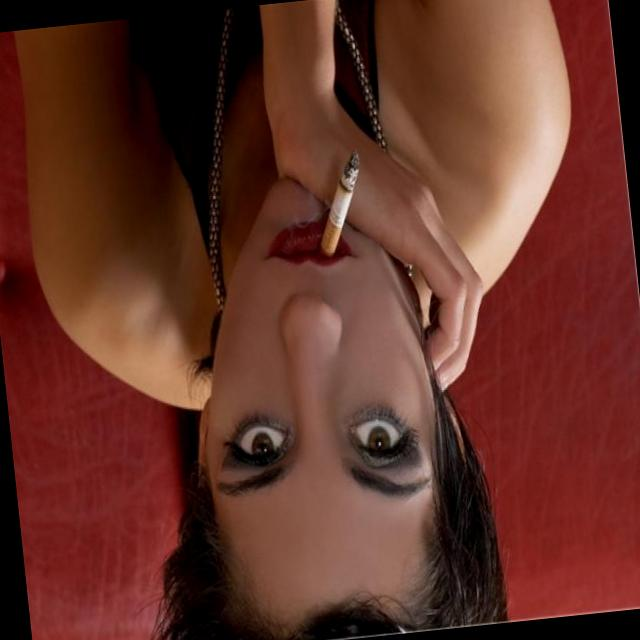smoke: (305, 144, 379, 264)
